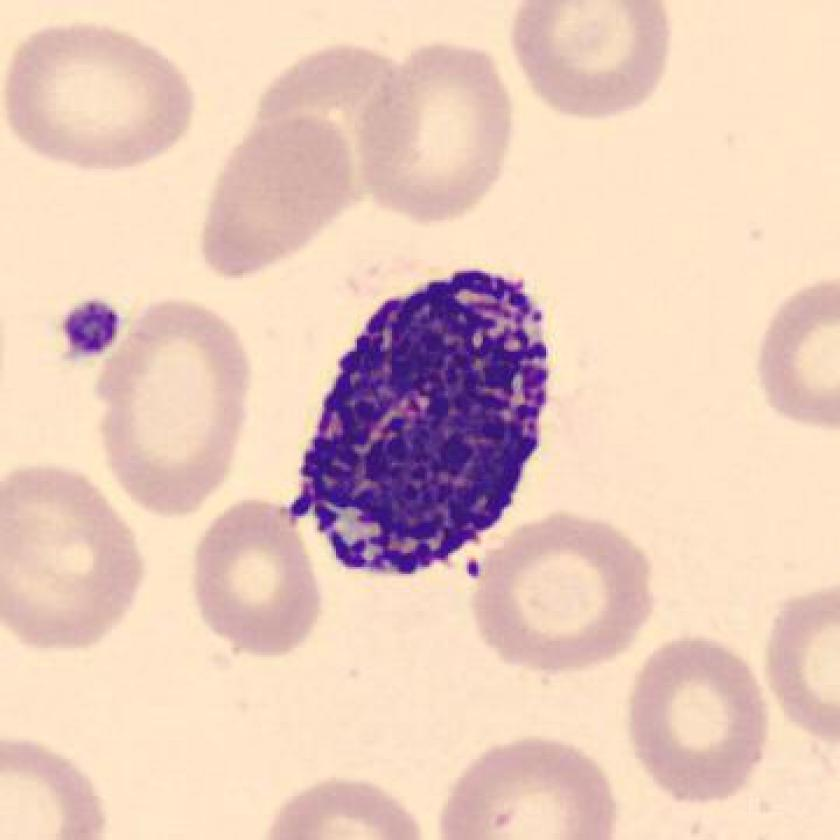basophil: (295, 265, 552, 596)
